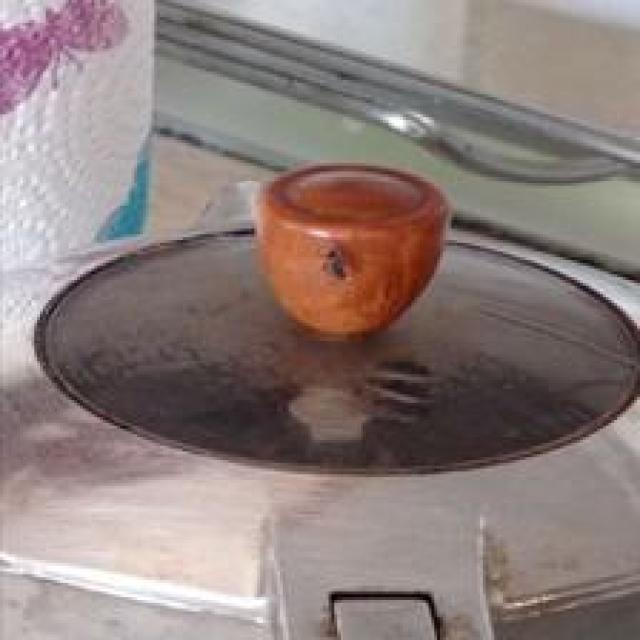Aedes albopictus: (252, 160, 452, 340)
